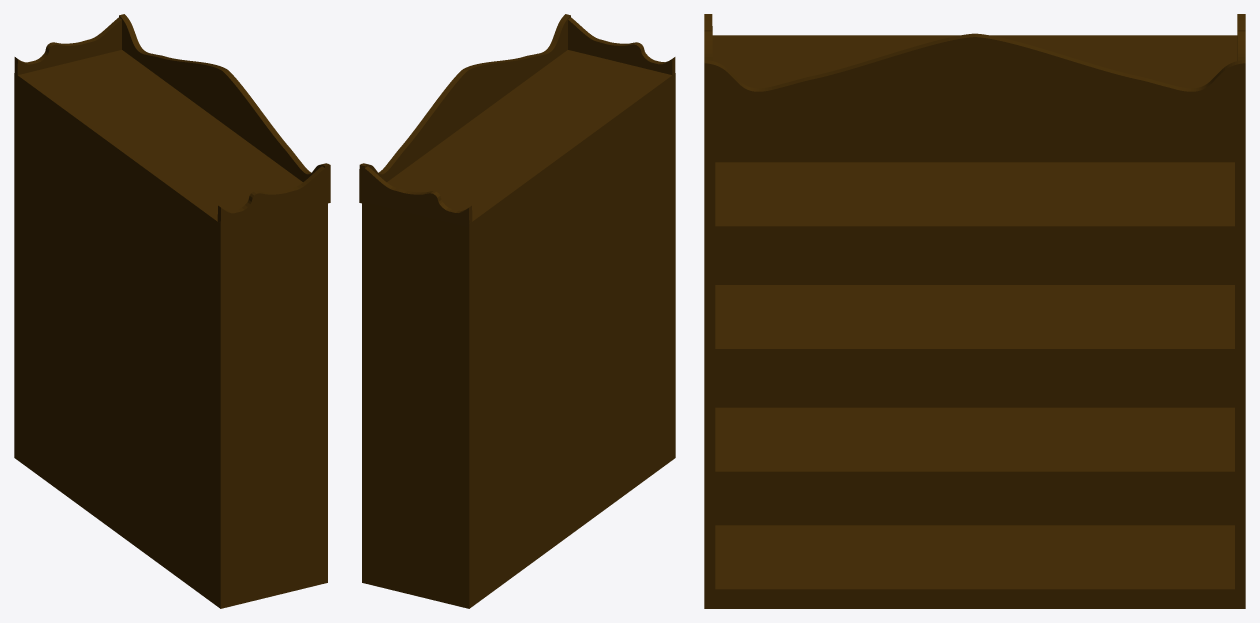
The model's file is LowPolyShelf.glb.
3 renders of one model, left to right at view 1: azimuth 30°, elevation 25°; view 2: azimuth 150°, elevation 25°; view 3: azimuth 270°, elevation 25°, orthographic. The views are drawn at different scales.
Parts seen in each view (by area): view 1: Shelf; view 2: Shelf; view 3: Shelf.
Boxes of the visible parts, <box> form: Shelf: <box>14,14,330,608</box>; Shelf: <box>359,14,675,608</box>; Shelf: <box>704,14,1245,608</box>.
Bounding box in the file's own units: 1.23 × 4.68 × 4.
